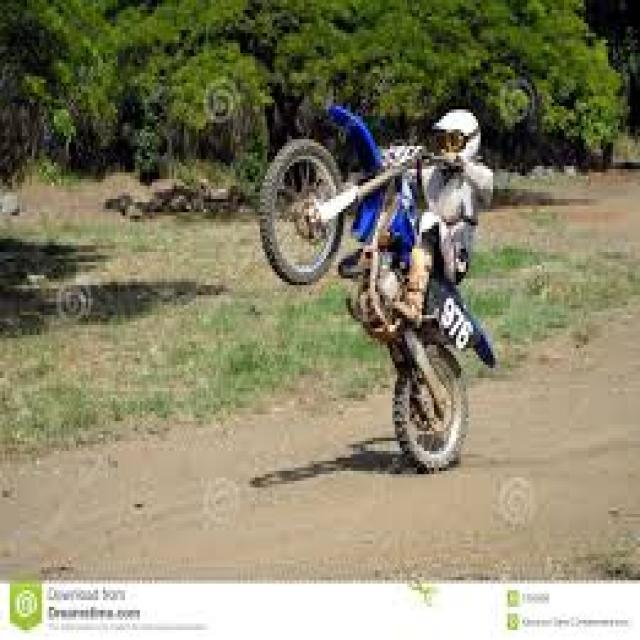Wheeling: (260, 89, 482, 466)
